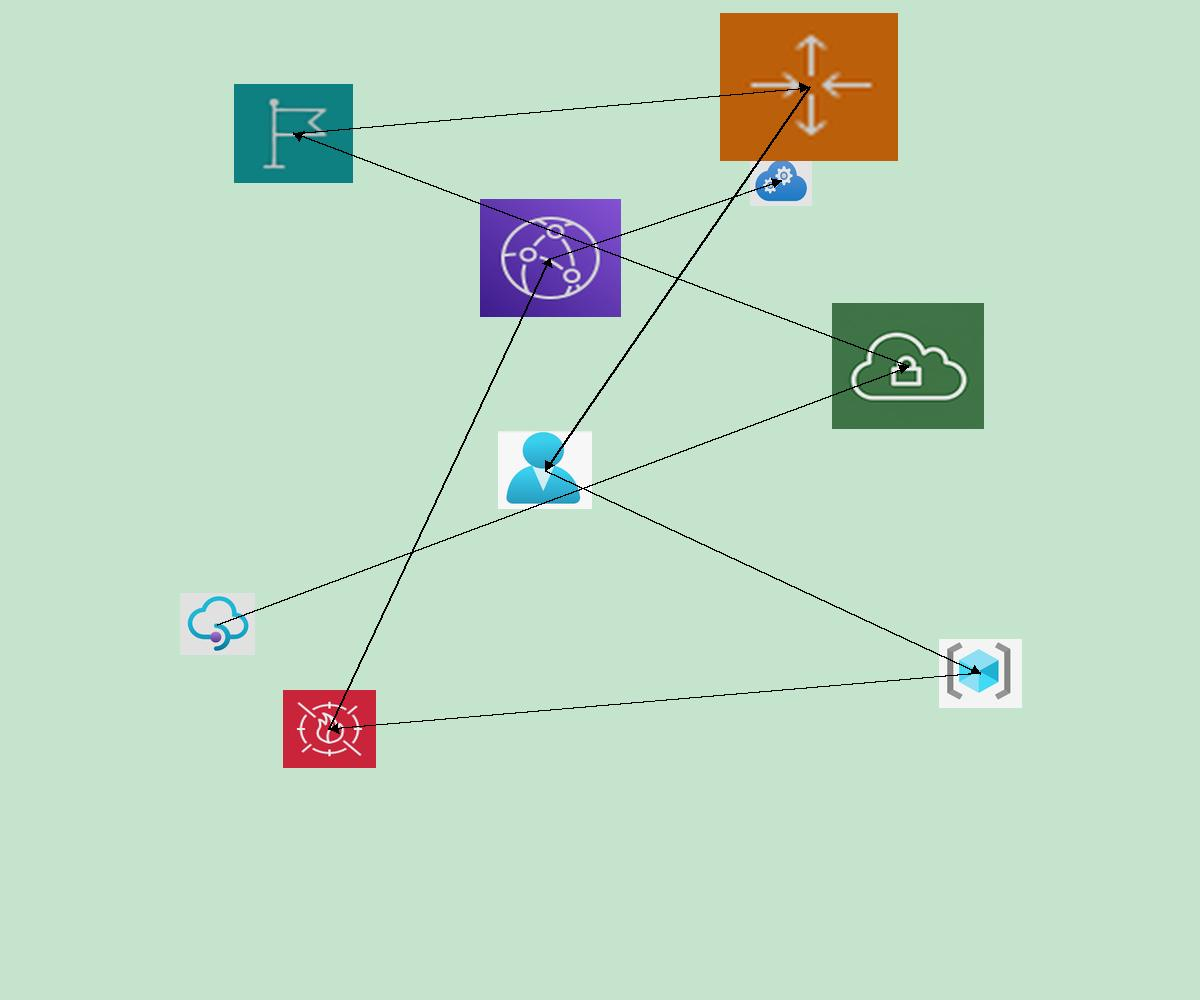AWS-CloudFront: (480, 199, 621, 317)
AWS-Private_vpc: (832, 303, 984, 429)
AWS-Region: (234, 84, 353, 183)
AWS-Scaling-group: (720, 13, 898, 161)
AWS-WAF: (283, 690, 376, 768)
Azure_api_gateway: (180, 593, 255, 655)
Azure_cloud_services: (750, 155, 812, 206)
Azure_resource_group: (939, 639, 1022, 708)
Azure_users: (498, 431, 592, 509)
